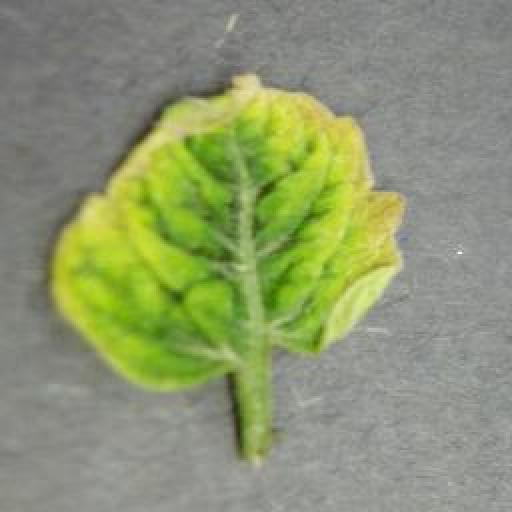Yellow Leaf Curl Virus: (47, 70, 411, 398)
